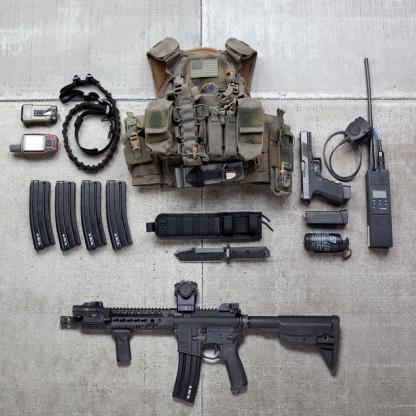Grenade: (304, 232, 353, 259)
Gun: (59, 277, 341, 406)
Knife: (174, 242, 272, 266)
Pistol: (299, 129, 351, 208)
